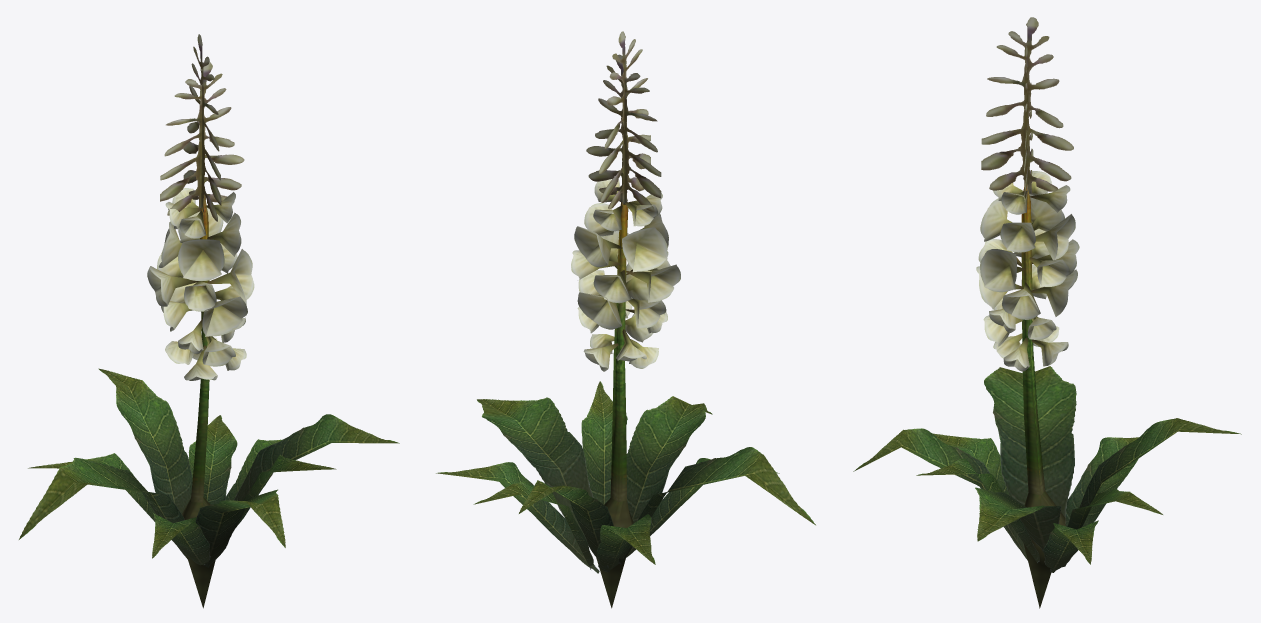
File: wm_洋地黄02.fbx
The picture shows the model from 3 angles, left to right: view 1: azimuth 30°, elevation 25°; view 2: azimuth 150°, elevation 25°; view 3: azimuth 270°, elevation 25°; orthographic projection. The views are drawn at different scales.
Visible parts, largest first — view 1: wm_洋地黄02; view 2: wm_洋地黄02; view 3: wm_洋地黄02.
Part boxes in pixels (<box>): wm_洋地黄02: <box>19,34,399,608</box>; wm_洋地黄02: <box>436,31,815,608</box>; wm_洋地黄02: <box>853,17,1241,608</box>.
Bounding box in the file's own units: 121 × 182 × 111.
